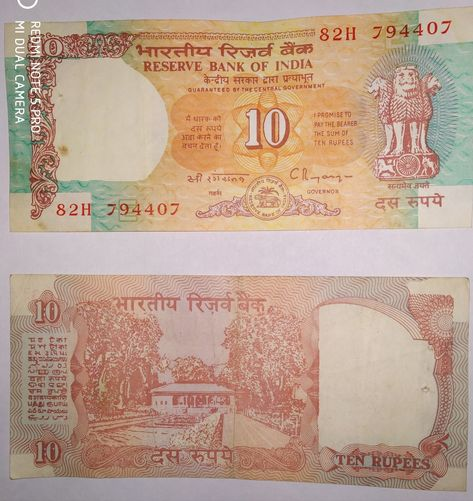ten_rupees_note: (3, 7, 473, 229), (8, 270, 467, 491)
